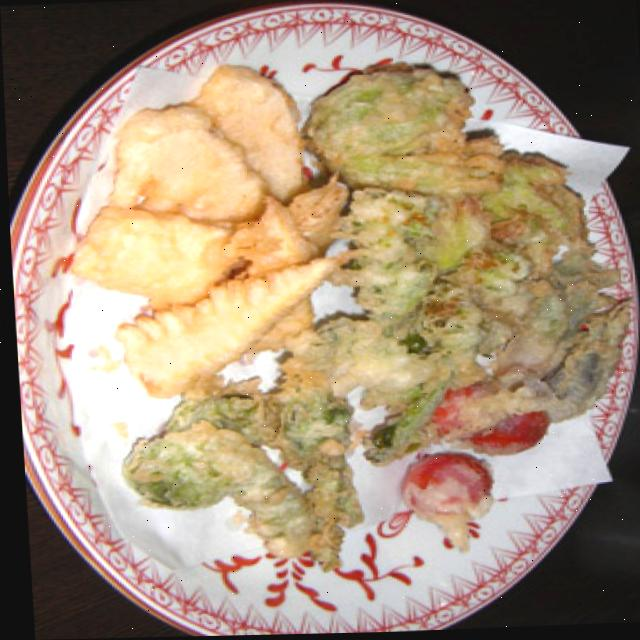蔬菜料理: (17, 31, 640, 617)
